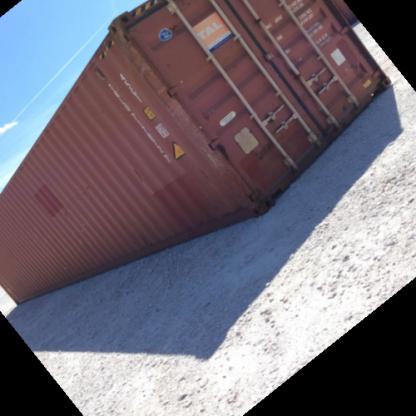Damage: (146, 73, 202, 146), (204, 130, 251, 198), (113, 14, 157, 86)
